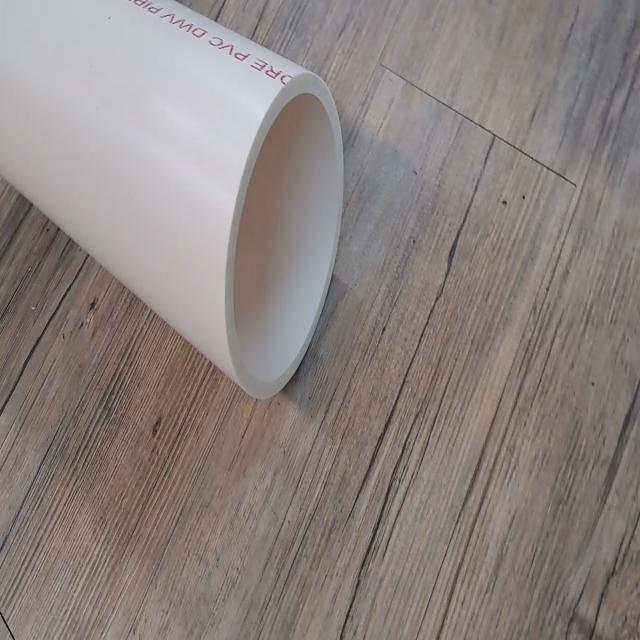CORAL: (0, 0, 354, 403)
